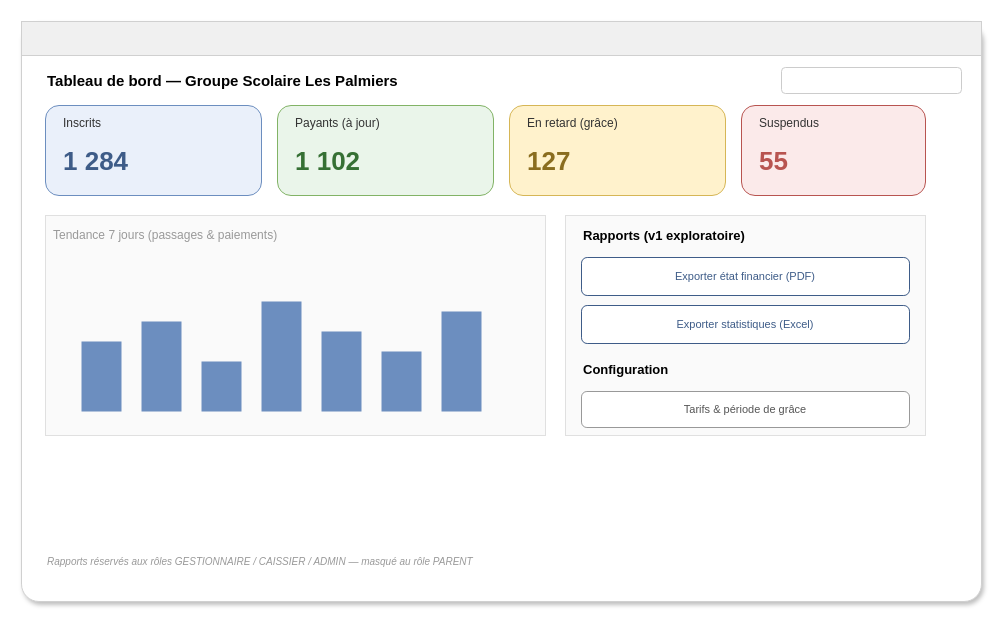
The diagram is 1005 pixels wide and 626 high, and some of its shapes have lost their labels. Each missing label, with the centre of its shape:
cantine-connect.klem.app / admin / dashboard: the point at 501,38
Thème : École Ivoirienne ▼: the point at 871,80
